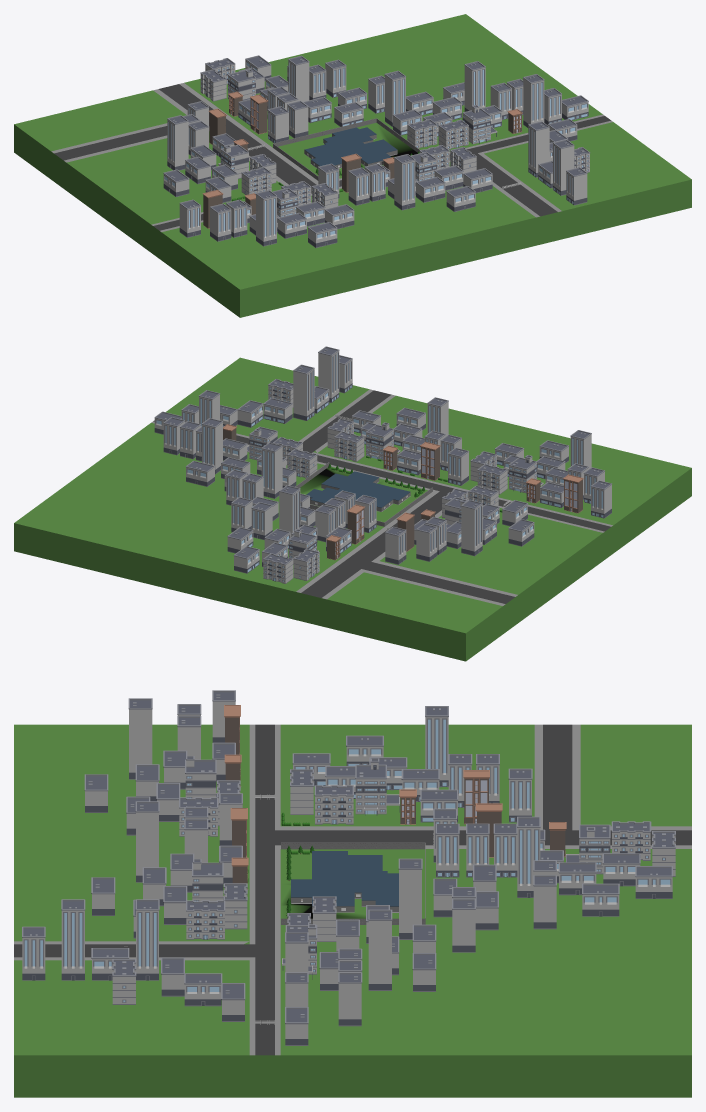
The model's file is BackgroundMap.fbx.
3 renders of one model, top to bottom at view 1: azimuth 30°, elevation 25°; view 2: azimuth 150°, elevation 25°; view 3: azimuth 270°, elevation 25°, orthographic. The views are drawn at different scales.
Parts seen in each view (by area): view 1: Ground, Roof, Yard.001, skyscraperF.025, skyscraperF.042, skyscraperF.052, skyscraperF, skyscraperF.031, skyscraperF.017, skyscraperF.029, skyscraperF.008, skyscraperF.062 (+43 smaller); view 2: Ground, Roof, skyscraperF.042, skyscraperF.031, Yard.001, skyscraperF.008, skyscraperF.029, skyscraperF.017, skyscraperF.062, large_buildingG.003, large_buildingG.001, large_buildingA.010 (+37 smaller); view 3: Ground, Roof, Yard.001, skyscraperF.017, skyscraperF.029, skyscraperF.031, large_buildingG.002, skyscraperF.008, skyscraperF.052, skyscraperF.062, skyscraperF.042, skyscraperF.025 (+63 smaller).
Part boxes in pixels (<box>): Ground: <box>14,14,691,317</box>; Roof: <box>304,127,397,166</box>; Yard.001: <box>278,122,417,178</box>; skyscraperF.025: <box>394,154,415,210</box>; skyscraperF.042: <box>167,115,188,170</box>; skyscraperF.052: <box>255,190,276,246</box>; skyscraperF: <box>523,74,544,127</box>; skyscraperF.031: <box>528,121,549,177</box>; skyscraperF.017: <box>464,61,485,111</box>; skyscraperF.029: <box>553,139,574,195</box>; skyscraperF.008: <box>384,70,406,127</box>; skyscraperF.062: <box>288,55,309,101</box>; Ground: <box>14,357,691,661</box>; Roof: <box>306,471,410,507</box>; skyscraperF.042: <box>461,499,482,556</box>; skyscraperF.031: <box>293,364,314,420</box>; Yard.001: <box>300,466,427,522</box>; skyscraperF.008: <box>261,442,282,498</box>; skyscraperF.029: <box>318,346,339,402</box>; skyscraperF.017: <box>202,418,223,474</box>; skyscraperF.062: <box>279,485,300,537</box>; large_buildingG.003: <box>508,455,543,493</box>; large_buildingG.001: <box>365,422,400,460</box>; large_buildingA.010: <box>263,553,293,583</box>; Ground: <box>14,724,691,1097</box>; Roof: <box>291,851,398,906</box>; Yard.001: <box>280,849,424,924</box>; skyscraperF.017: <box>368,909,392,990</box>; skyscraperF.029: <box>61,899,85,980</box>; skyscraperF.031: <box>135,899,159,980</box>; large_buildingG.002: <box>355,758,399,815</box>; skyscraperF.008: <box>398,858,422,939</box>; skyscraperF.052: <box>128,698,152,779</box>; skyscraperF.062: <box>517,816,540,897</box>; skyscraperF.042: <box>425,706,448,787</box>; skyscraperF.025: <box>135,801,159,882</box>.
Size of the model in its own units: 33710 by 5405 by 29210.
